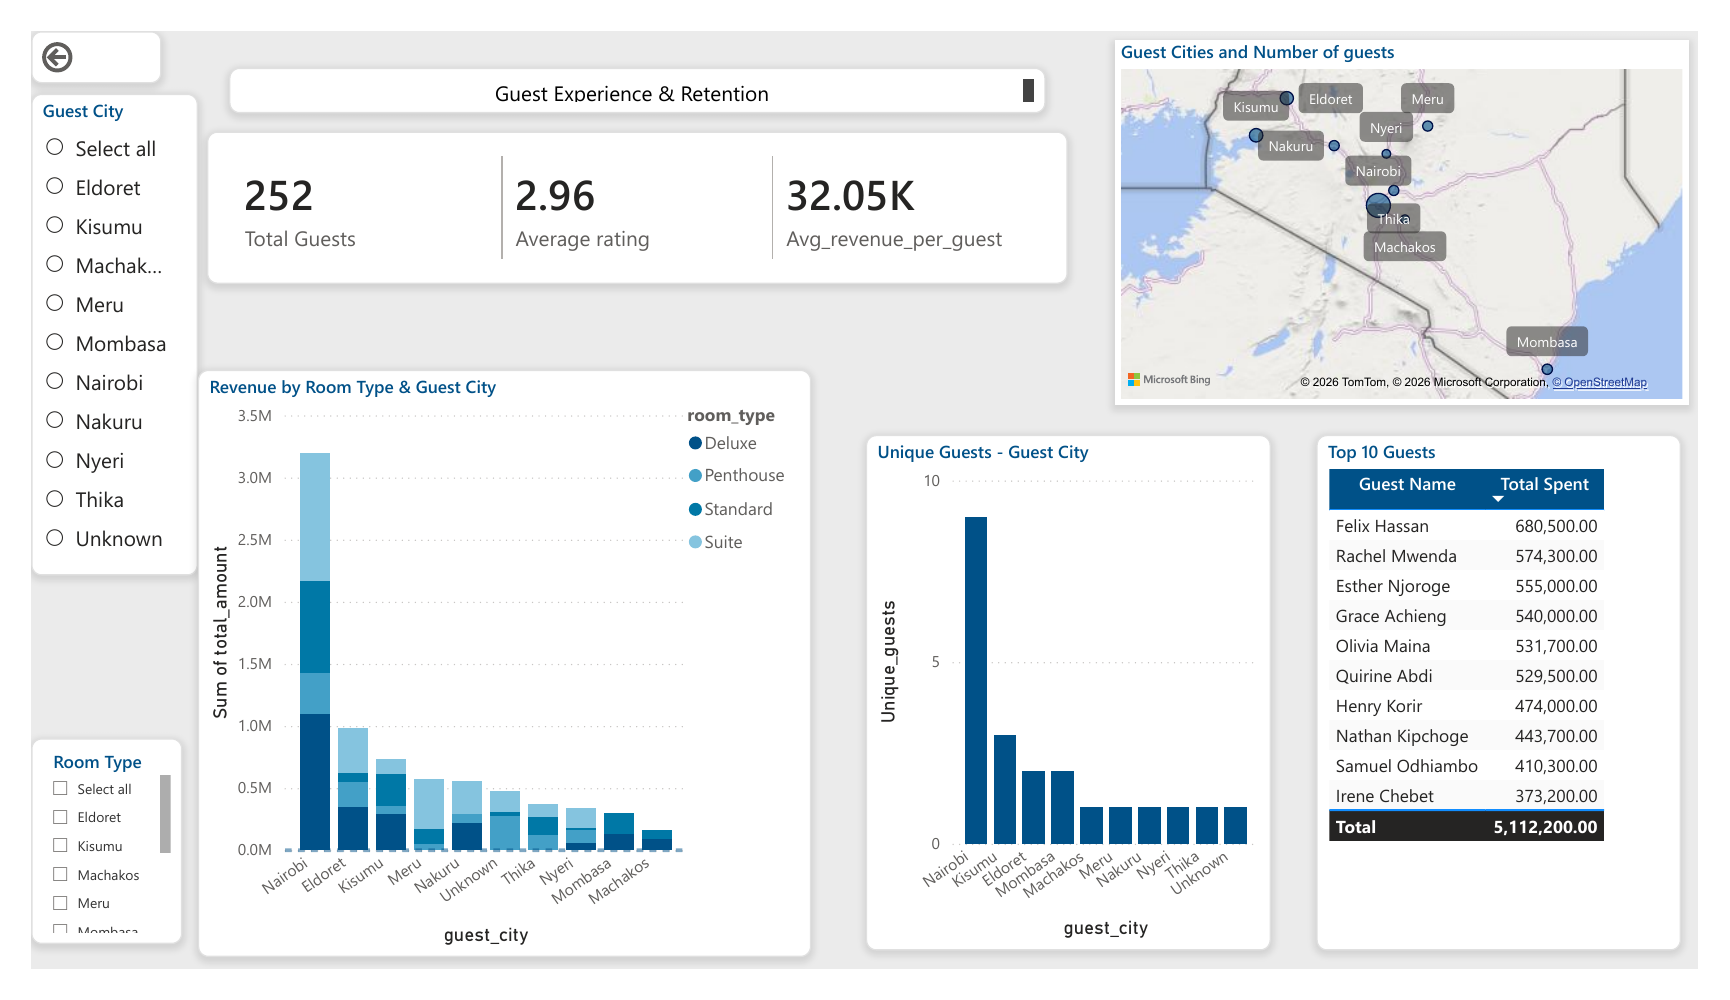

This screenshot's page, from the dashboard's own definition file:
{"tool":"powerbi","page":{"name":"Guest Exp & Retention","canvas":[1280,720],"ordinal":1},"visuals":[{"type":"map","title":"Guest Cities and Number of guests","fields":{"Category":["tembo_hotel v_guest_insights.guest_city"],"Size":["Sum(tembo_hotel v_guest_insights.num_guests)"]},"box":[831.7,6.5,441.1,280.1],"z":0},{"type":"listSlicer","title":"Guest City","fields":{"Values":["tembo_hotel v_guest_insights.guest_city"]},"box":[0,48.4,128.3,369.7],"z":1000},{"type":"columnChart","title":"Revenue by Room Type & Guest City","fields":{"Category":["tembo_hotel v_bookings_master.guest_city"],"Y":["Sum(tembo_hotel v_bookings_master.total_amount)"],"Series":["tembo_hotel v_bookings_master.room_type"]},"box":[128.3,259.8,471.2,450.9],"z":2000},{"type":"clusteredColumnChart","title":"Unique Guests - Guest City","fields":{"Category":["tembo_hotel v_guest_insights.guest_city"],"Y":["Sum(tembo_hotel v_guest_insights.unique_guests)"]},"box":[640.7,310.2,311.5,395.9],"z":3000},{"type":"cardVisual","fields":{"Data":["Sum(tembo_hotel v_guest_insights.num_guests)","Avg(tembo_hotel v_guest_insights.avg_rating)","Avg(tembo_hotel v_guest_insights.avg_revenue_per_guest)"]},"box":[134.8,76.6,661.6,117.8],"z":4000},{"type":"tableEx","title":"Top 10 Guests","fields":{"Values":["tembo_hotel v_bookings_master.guest_name","Sum(tembo_hotel v_bookings_master.total_amount)"]},"box":[986.8,310.2,280.1,395.9],"z":5000},{"type":"textbox","box":[151.8,28.1,626.9,35.3],"z":6000},{"type":"actionButton","box":[0,0,100,40],"z":7000},{"type":"slicer","fields":{"Values":["tembo_hotel v_guest_insights.guest_city"]},"box":[0,542.6,116.2,158.7],"z":8000}]}

Visuals, with their boxes in screenshot pixels (x1, y1, x2, y2), scaled from the page's 1280x720 canvas onto the 1730x1000 screenshot:
"Guest Cities and Number of guests" map: BBox(1124, 9, 1720, 398)
"Guest City" listSlicer: BBox(0, 67, 173, 581)
"Revenue by Room Type & Guest City" columnChart: BBox(173, 361, 810, 987)
"Unique Guests - Guest City" clusteredColumnChart: BBox(866, 431, 1287, 981)
cardVisual - Sum(tembo_hotel v_guest_insights.num_guests) x Avg(tembo_hotel v_guest_insights.avg_rating): BBox(182, 106, 1076, 270)
"Top 10 Guests" tableEx: BBox(1334, 431, 1712, 981)
textbox: BBox(205, 39, 1052, 88)
actionButton: BBox(0, 0, 135, 56)
slicer - tembo_hotel v_guest_insights.guest_city: BBox(0, 754, 157, 974)
